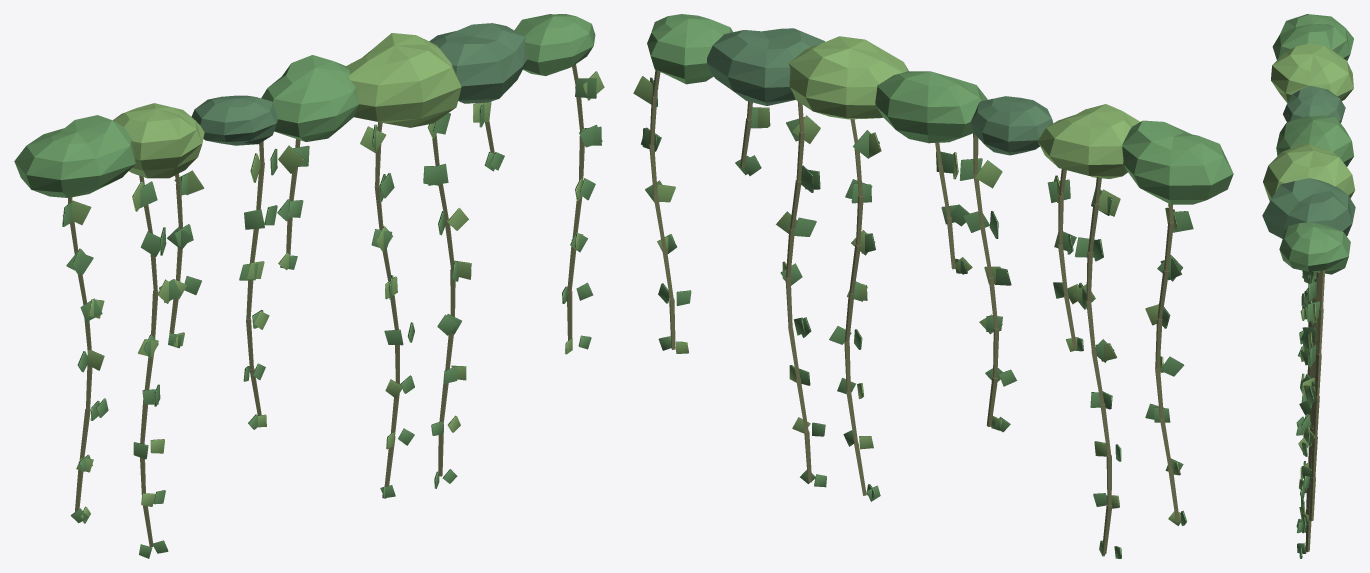
Rendered from vines_hanging_3m.glb.
3 views of the same model, side by side, from view 1: azimuth 30°, elevation 25°; view 2: azimuth 150°, elevation 25°; view 3: azimuth 270°, elevation 25° (orthographic). The views are drawn at different scales.
Parts seen in each view (by area): view 1: vines_hanging_3m; view 2: vines_hanging_3m; view 3: vines_hanging_3m.
Part boxes in pixels (x1,y1,x2,y2): vines_hanging_3m: (14,14,604,558); vines_hanging_3m: (633,14,1233,558); vines_hanging_3m: (1262,14,1355,558).
Bounding box in the file's own units: 3.06 × 2.23 × 0.487.
